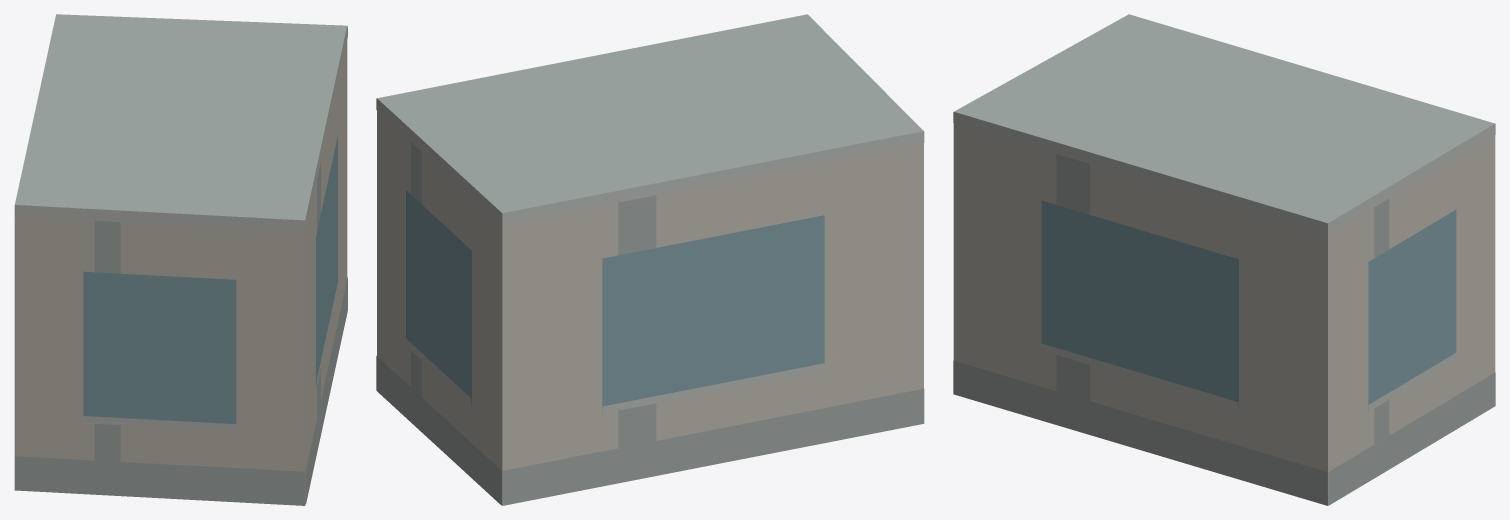
Rendered from residential-9a75d2e4-19ba-4b17-980d-bd8e573905b6.glb.
The picture shows the model from 3 angles, left to right: view 1: azimuth 30°, elevation 25°; view 2: azimuth 150°, elevation 25°; view 3: azimuth 270°, elevation 25°; orthographic projection. The views are drawn at different scales.
Parts seen in each view (by area): view 1: residential-9a75d2e4-19ba-4b17-980d-bd8e573905b6.tmp; view 2: residential-9a75d2e4-19ba-4b17-980d-bd8e573905b6.tmp; view 3: residential-9a75d2e4-19ba-4b17-980d-bd8e573905b6.tmp.
Part boxes in pixels (x1,y1,x2,y2): residential-9a75d2e4-19ba-4b17-980d-bd8e573905b6.tmp: [14, 14, 347, 505]; residential-9a75d2e4-19ba-4b17-980d-bd8e573905b6.tmp: [376, 14, 924, 505]; residential-9a75d2e4-19ba-4b17-980d-bd8e573905b6.tmp: [953, 14, 1495, 505].
Size of the model in its own units: 4.85 by 3.05 by 5.31.
